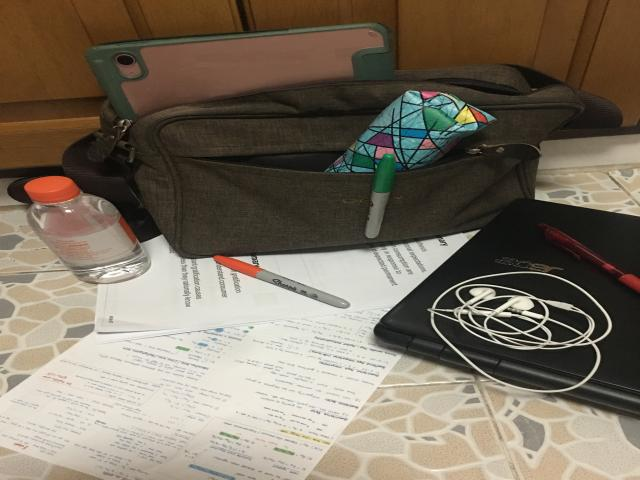Pen: (213, 255, 350, 308), (538, 223, 640, 292), (365, 154, 397, 238)
bottle: (23, 176, 150, 283)
paper: (3, 233, 467, 480)
wire: (428, 272, 613, 392)
